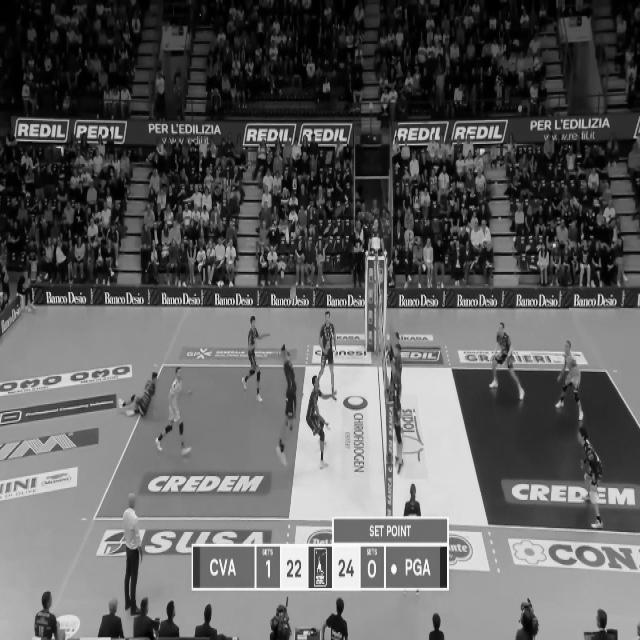volleyball court: (91, 363, 638, 538), (450, 365, 639, 531)
